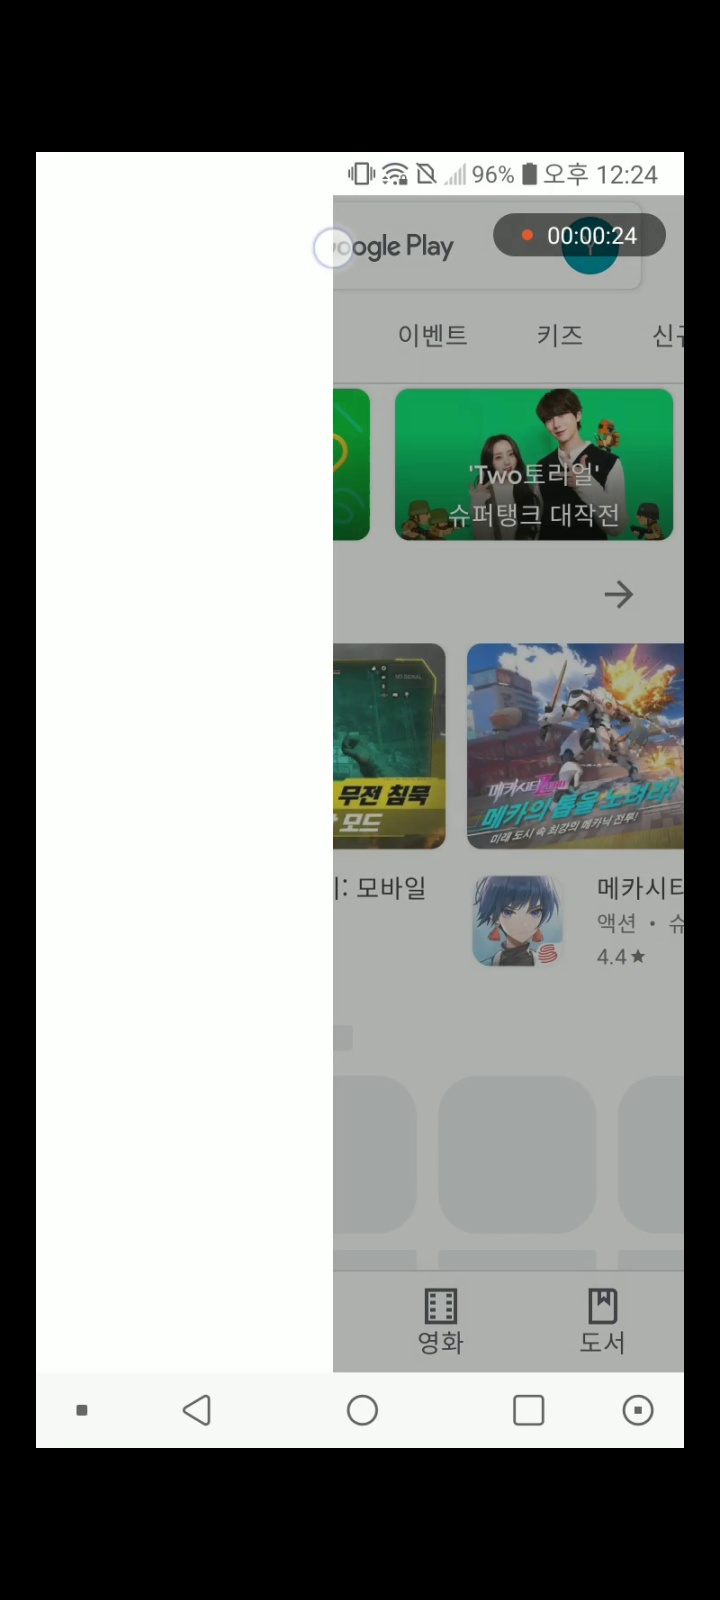Cursor: (312, 226, 357, 272)
